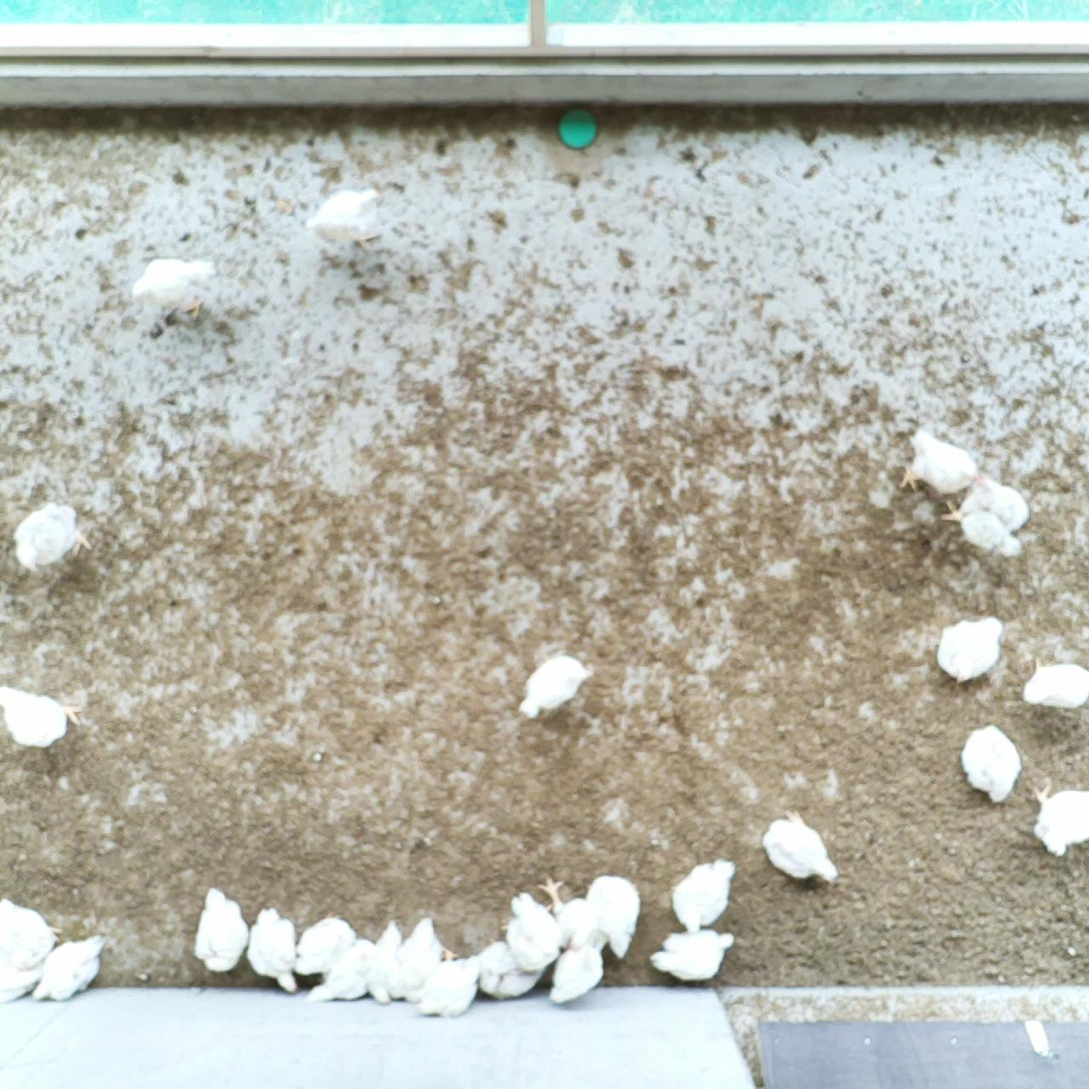chicken: (760, 807, 842, 890), (130, 253, 217, 325), (902, 427, 985, 498), (0, 681, 84, 751), (11, 500, 94, 568), (31, 932, 109, 1003), (516, 653, 595, 723), (537, 877, 607, 954), (306, 185, 386, 252), (941, 498, 1028, 559), (194, 885, 252, 974), (669, 857, 735, 935), (245, 901, 300, 994), (395, 916, 455, 1001), (649, 926, 738, 983), (961, 721, 1021, 805), (936, 614, 1004, 686), (308, 939, 381, 1004), (1029, 781, 1089, 858), (588, 874, 642, 959), (415, 953, 483, 1020), (0, 898, 60, 972), (475, 935, 541, 1000), (293, 912, 355, 981), (505, 894, 559, 971), (363, 919, 410, 1006), (550, 941, 610, 1006), (962, 473, 1032, 528), (1022, 655, 1089, 711), (0, 954, 44, 1008)
